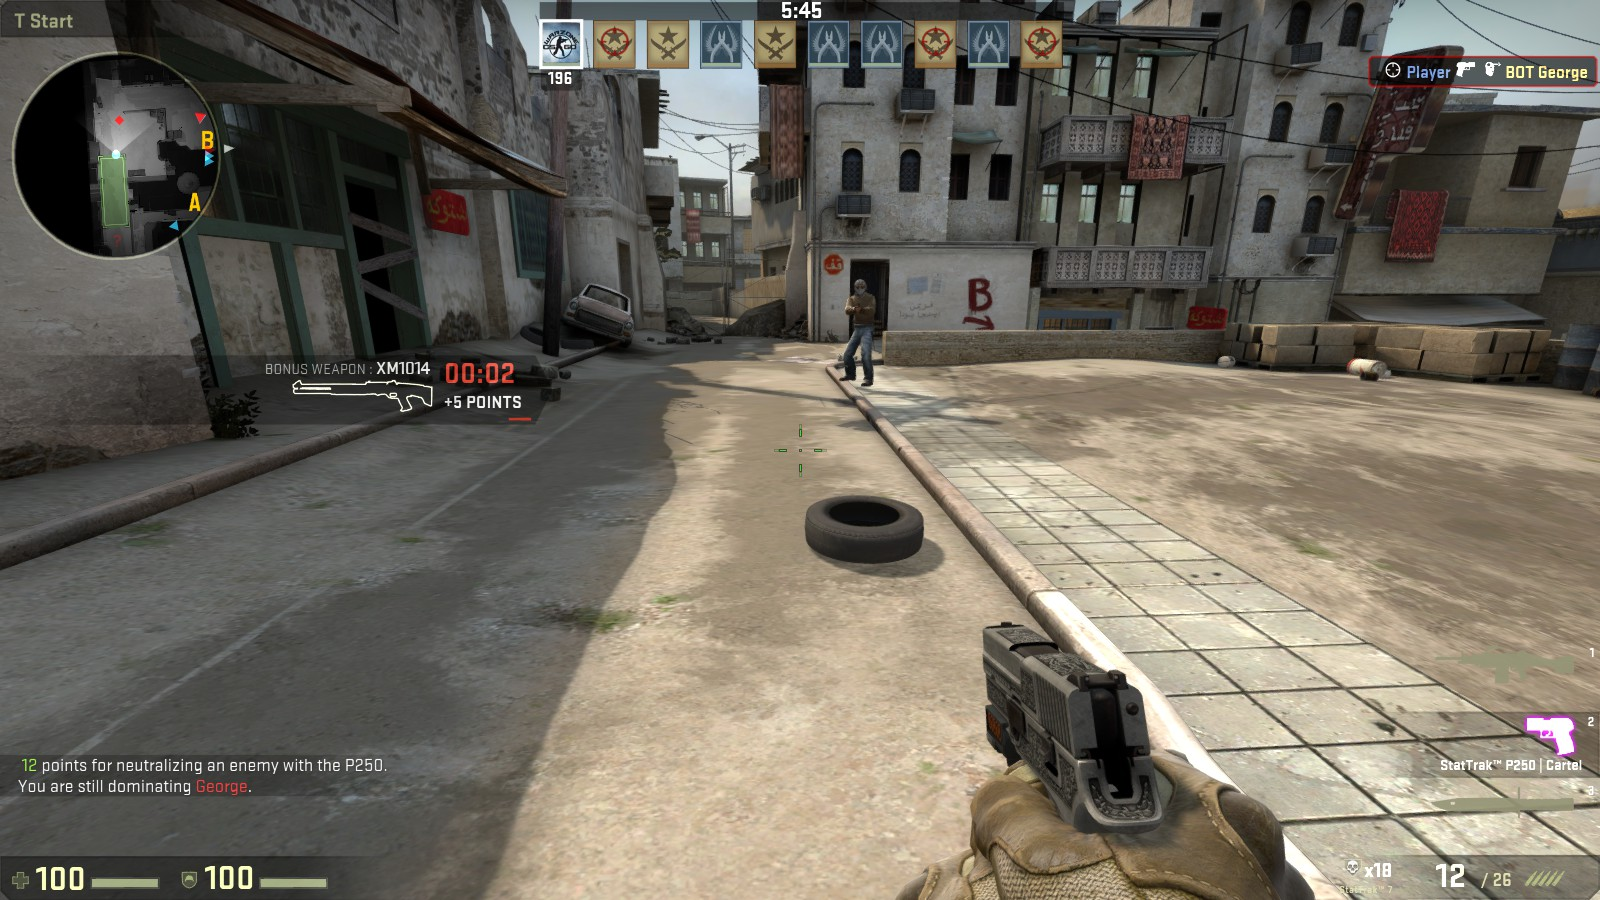t: (844, 279, 876, 384)
th: (853, 279, 870, 295)
